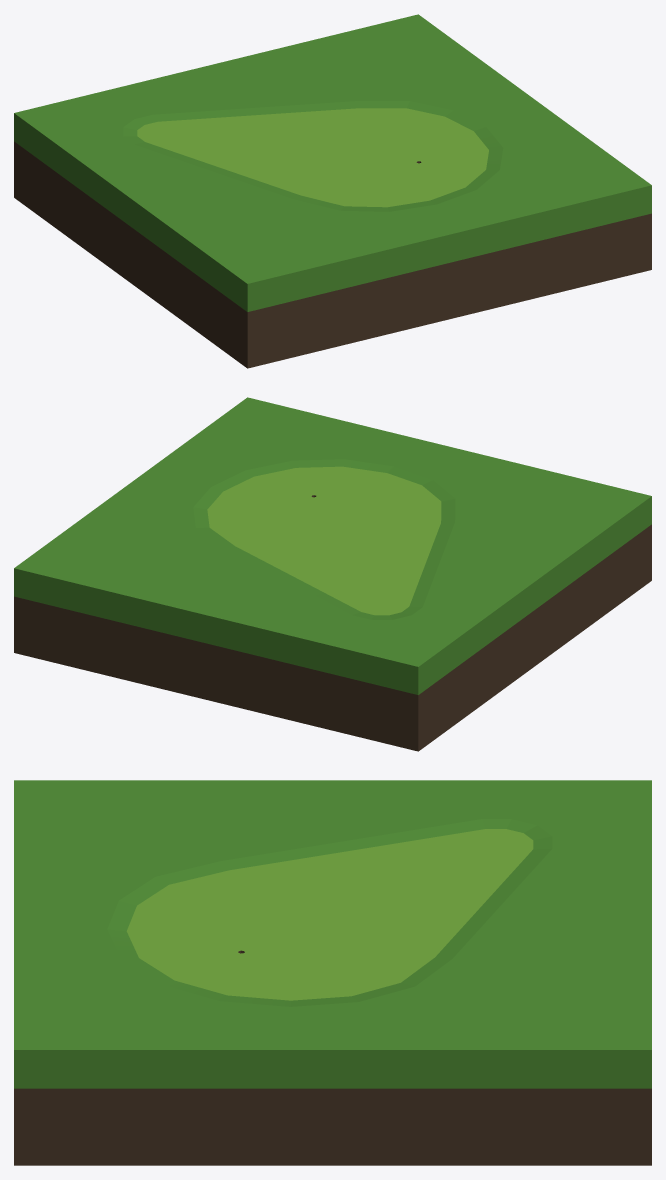
Rendered from tiles_tile-golf-green.fbx.
3 renders of one model, top to bottom at view 1: azimuth 30°, elevation 25°; view 2: azimuth 150°, elevation 25°; view 3: azimuth 270°, elevation 25°, orthographic. The views are drawn at different scales.
Parts seen in each view (by area): view 1: tiles_tile_golf_green; view 2: tiles_tile_golf_green; view 3: tiles_tile_golf_green.
Boxes of the visible parts, <box> form: tiles_tile_golf_green: <box>14,14,651,368</box>; tiles_tile_golf_green: <box>14,397,651,751</box>; tiles_tile_golf_green: <box>14,780,651,1165</box>.
Bounding box in the file's own units: 200 × 40 × 200.
